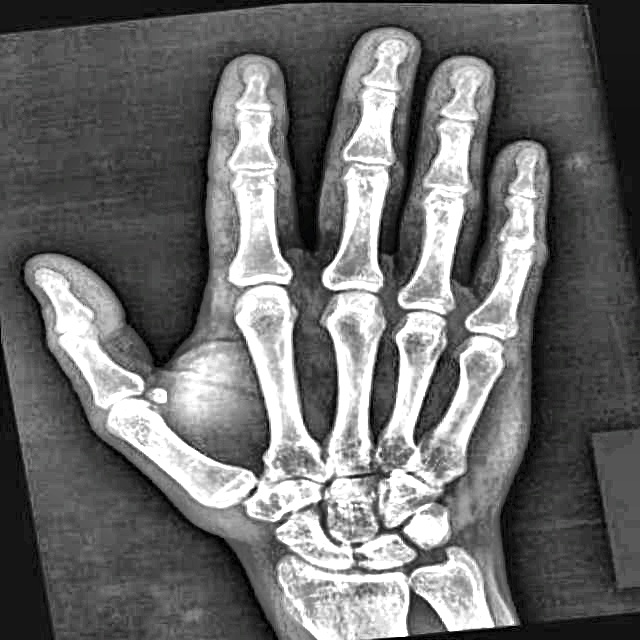Healthy: (70, 58, 586, 606)
